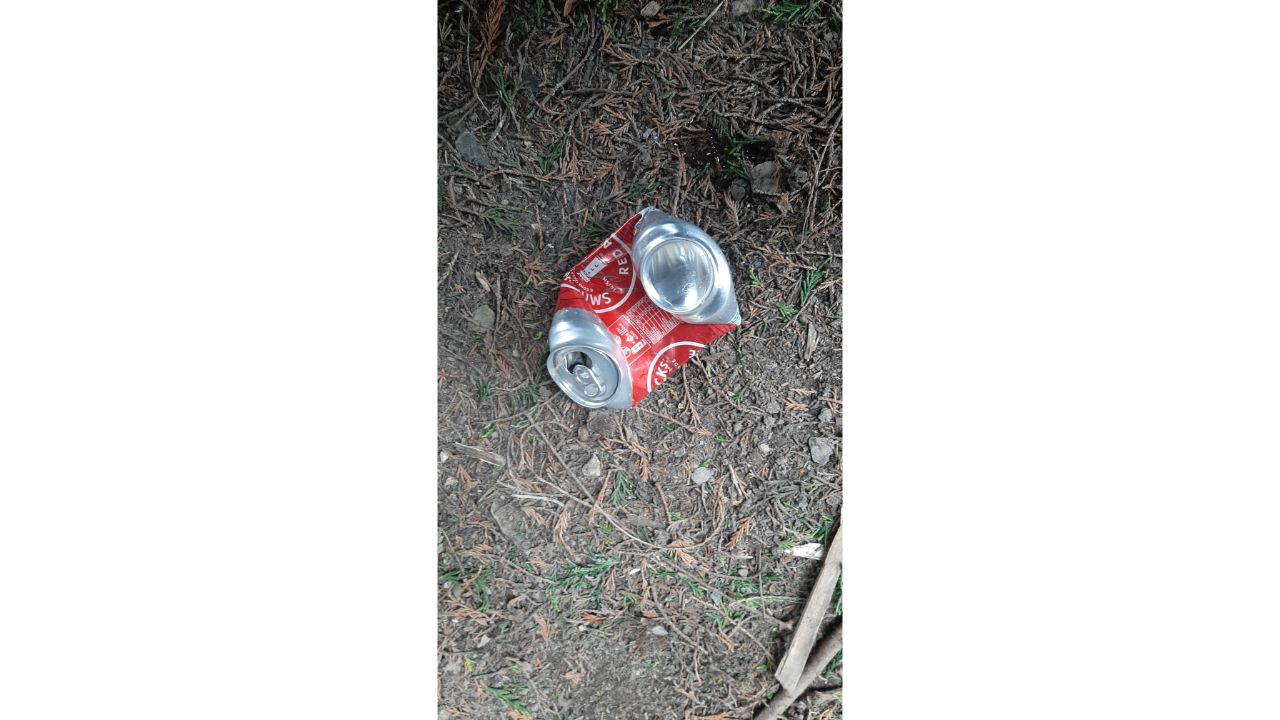Can: (542, 208, 744, 410)
